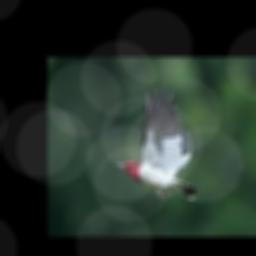Woodpecker: (115, 85, 202, 200)
